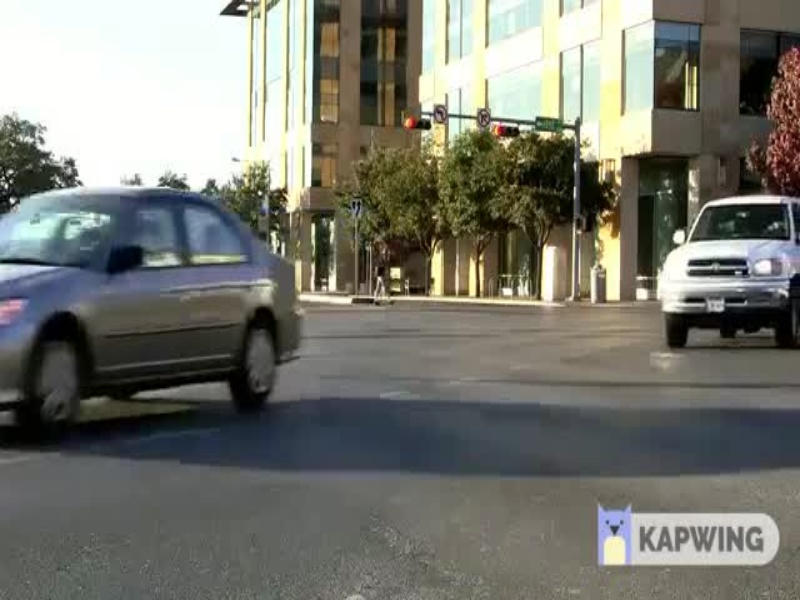car: (1, 170, 344, 432), (634, 194, 800, 364)
